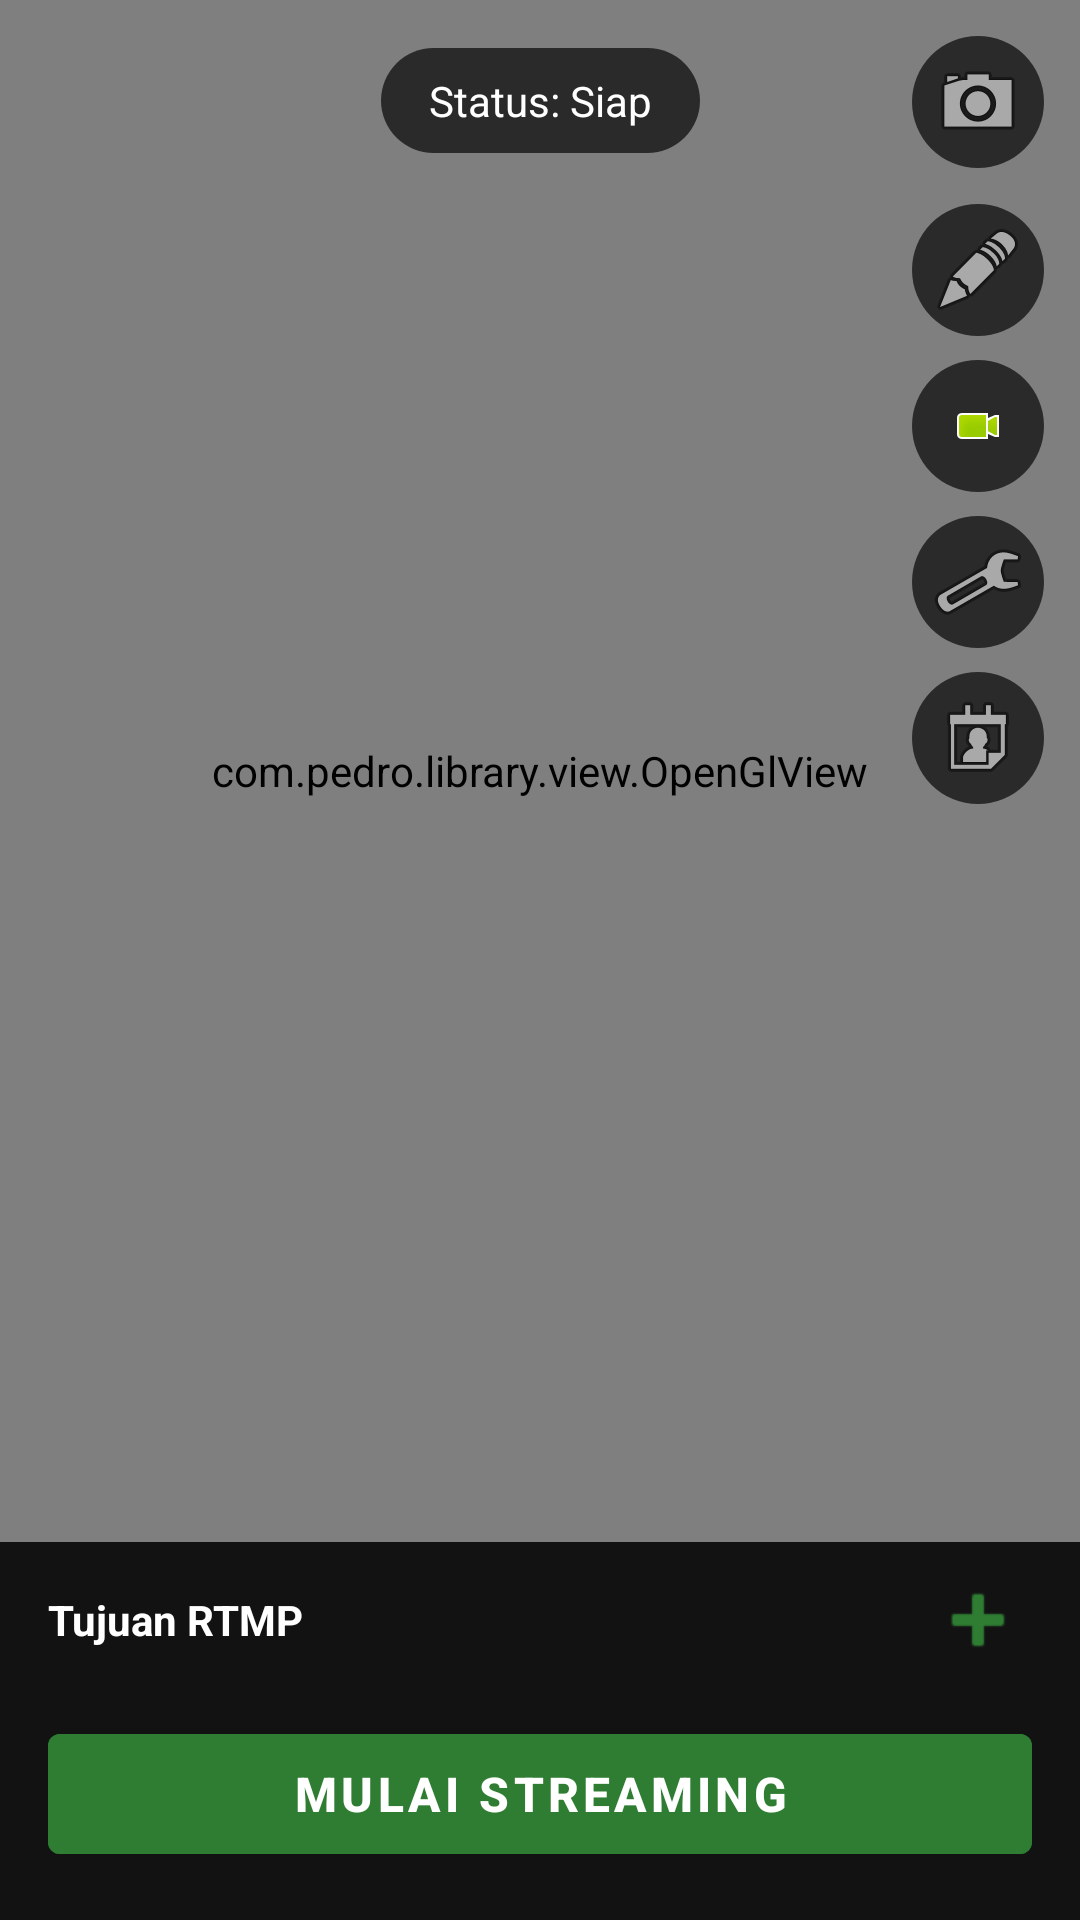

Named icons in this screenshot (1080 × 1920) and their bounding boxes, BBox(x1, y1, x2, y2):
Ganti Kamera: BBox(912, 36, 1044, 168)
Jadwal streaming: BBox(912, 672, 1044, 804)
Label overlay: BBox(912, 204, 1044, 336)
Rekam lokal: BBox(912, 360, 1044, 492)
Tambah profil RTMP: BBox(951, 1593, 1005, 1647)
